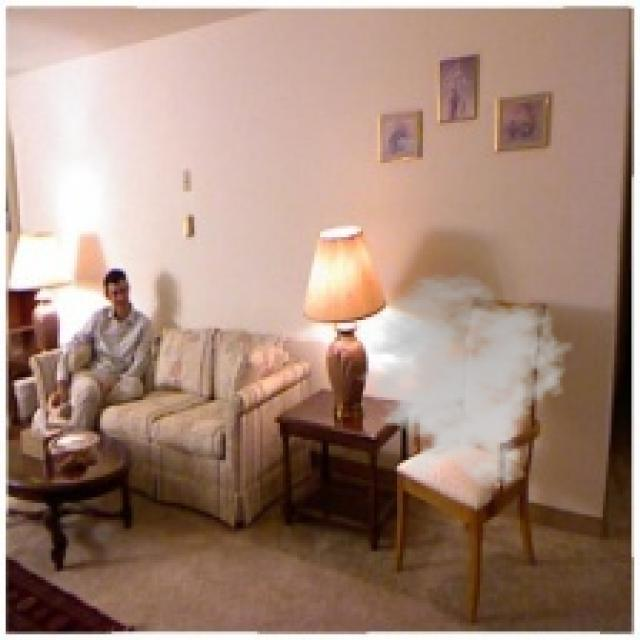Smoke: (343, 272, 574, 488)
